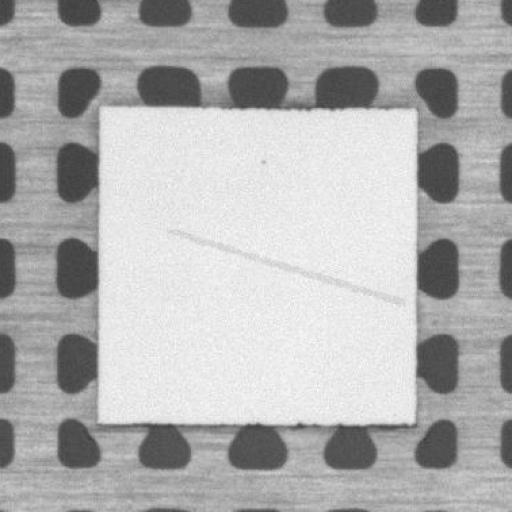DIE_INK: (255, 151, 268, 166)
